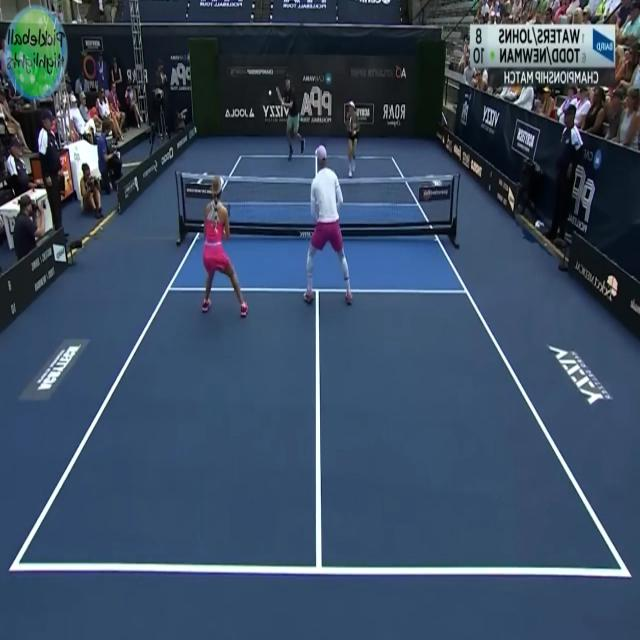Pickleball: (269, 88, 273, 98)
